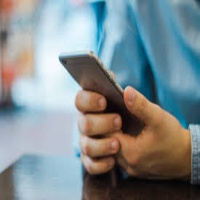ring: (79, 133, 123, 157)
